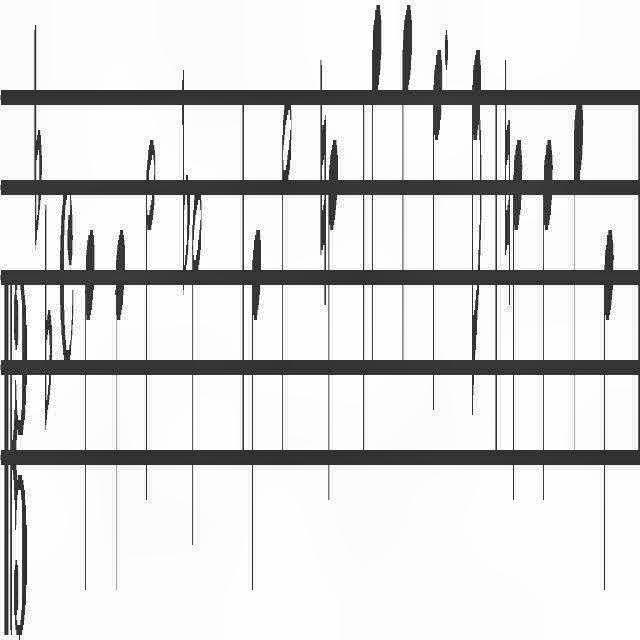Bemol: (40, 174, 54, 448), (178, 46, 190, 310), (29, 0, 42, 240)
Eighth-note: (469, 35, 483, 452)
Half-note: (140, 103, 156, 529), (280, 67, 294, 497), (189, 162, 203, 558)
Quarter-note: (570, 67, 588, 527), (601, 201, 619, 631), (538, 126, 556, 550), (368, 0, 384, 436), (248, 198, 264, 610), (400, 1, 416, 403), (112, 204, 126, 584), (512, 110, 524, 520), (430, 32, 442, 424), (328, 119, 339, 504), (84, 220, 96, 572)
